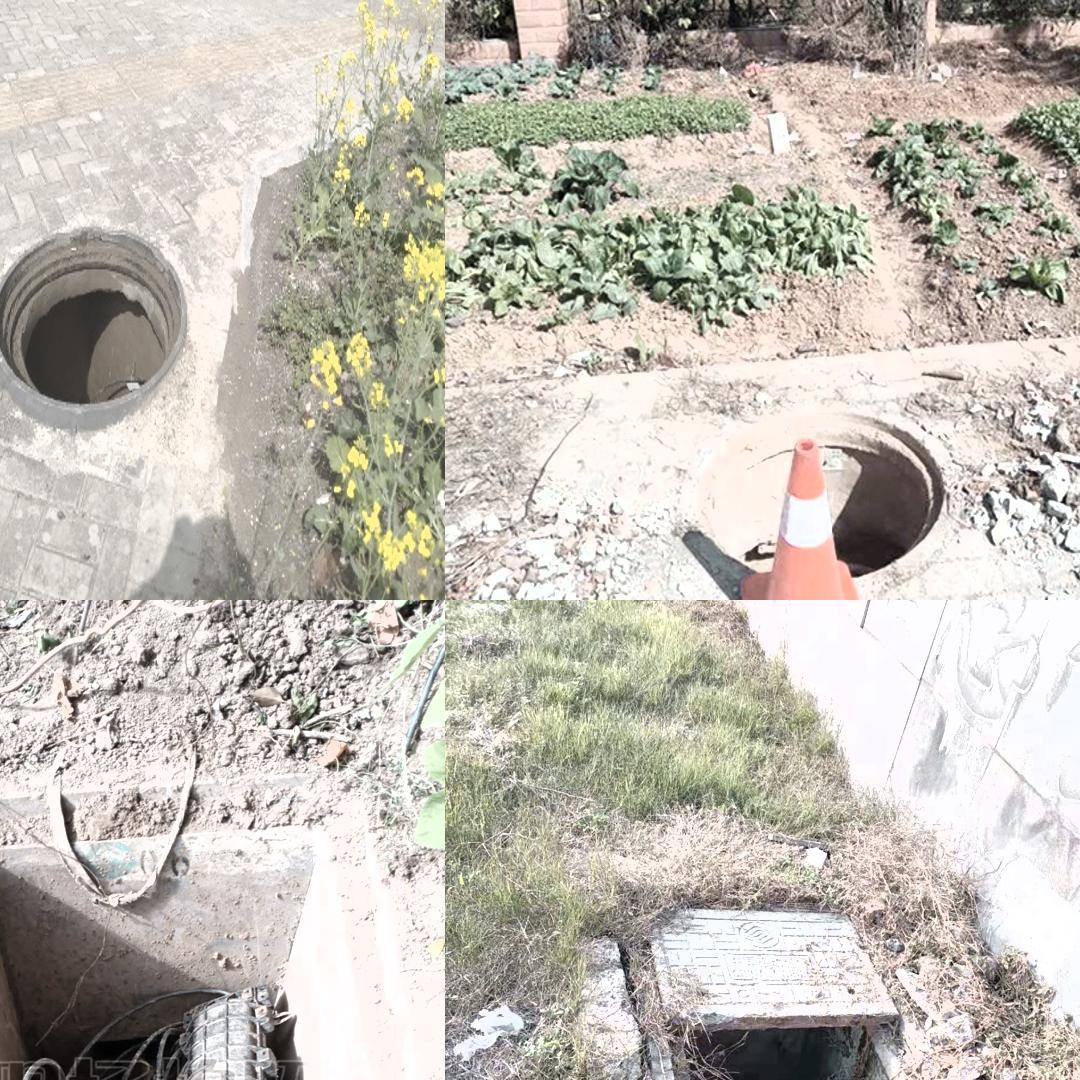lose: (0, 747, 433, 1080), (614, 883, 927, 1080), (679, 397, 957, 588), (0, 227, 185, 432)
